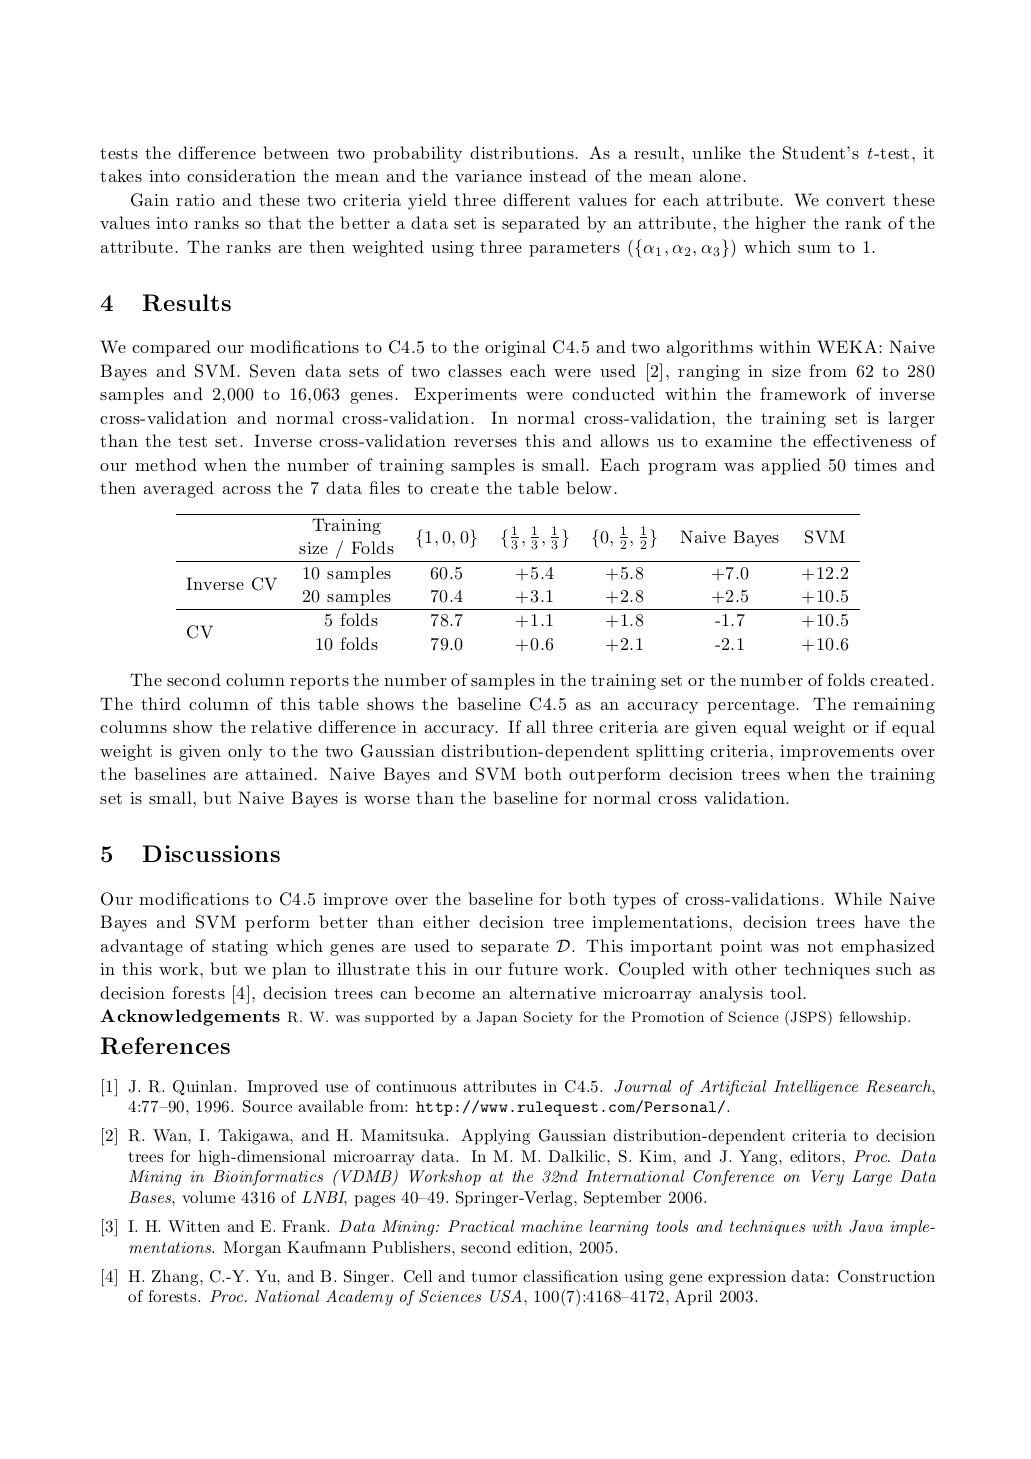Table: (176, 514, 859, 651)
